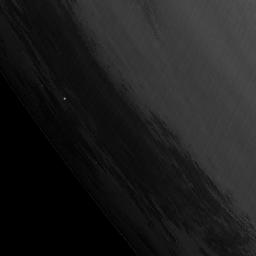Target: (61, 95, 67, 100)
